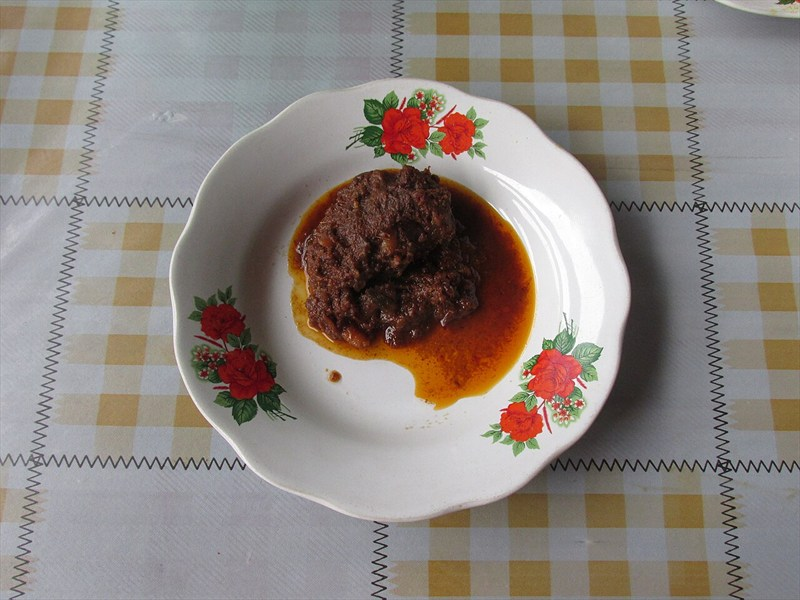Rendang: (192, 89, 648, 461)
